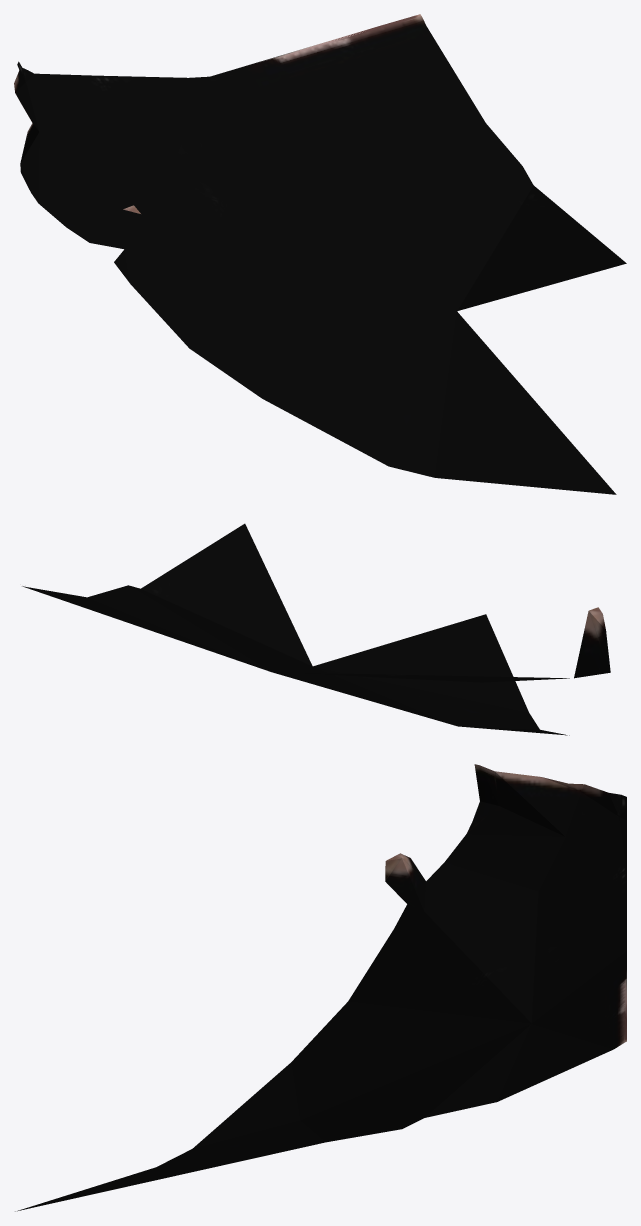
3 renders of one model, top to bottom at view 1: azimuth 30°, elevation 25°; view 2: azimuth 150°, elevation 25°; view 3: azimuth 270°, elevation 25°, orthographic. The views are drawn at different scales.
Bounding box in the file's own units: 5.7 × 3.29 × 6.44.
Materials: 2 (2 with a texture image).
